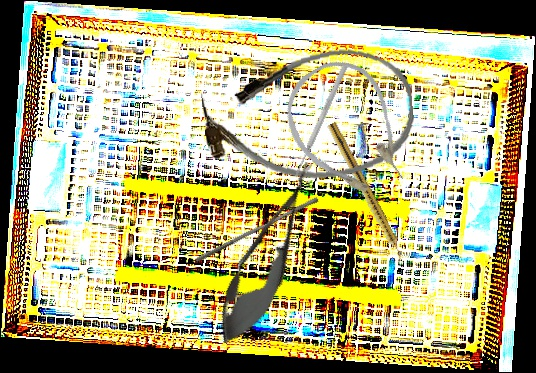Cannula: (197, 42, 420, 190), (267, 45, 428, 217)
Handpiece: (324, 121, 408, 264)
Micro Scissor: (203, 152, 333, 355)
Pusher: (194, 192, 320, 268), (292, 64, 349, 178)
